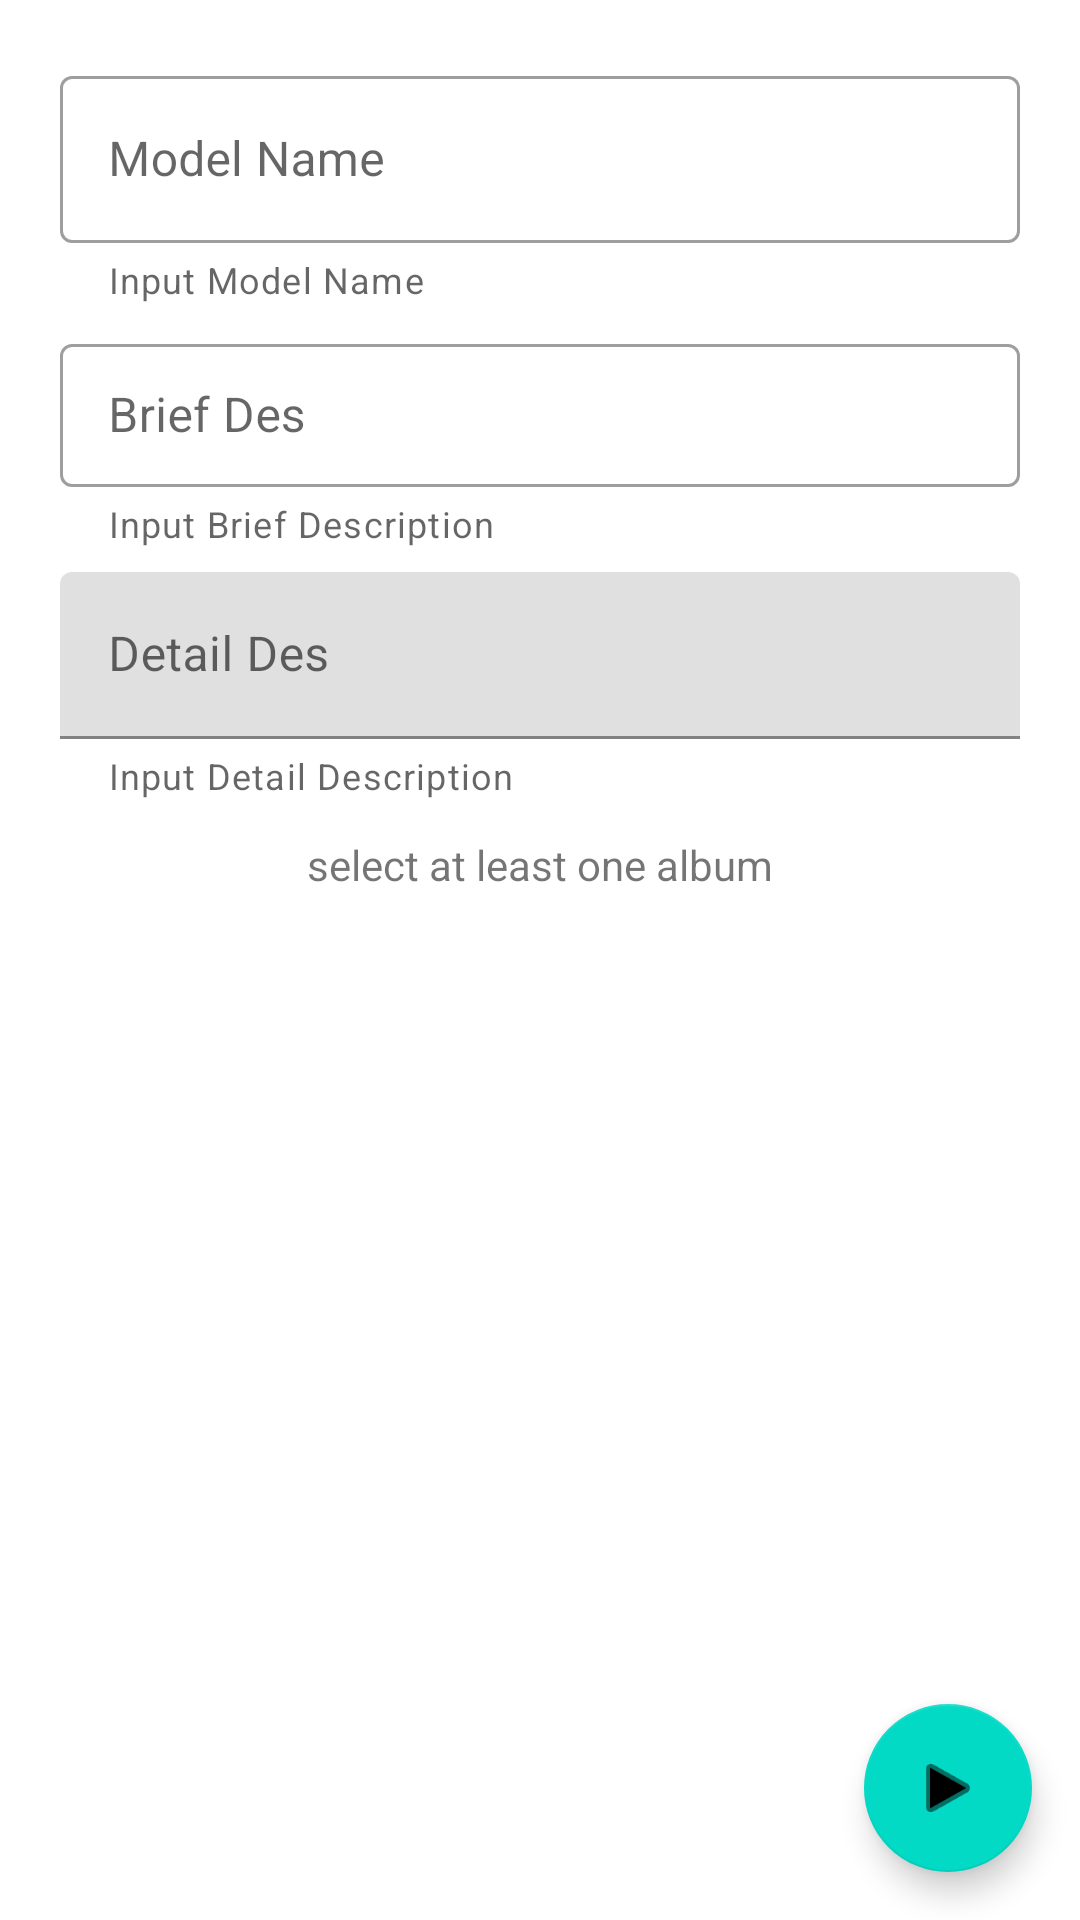

Locate icon controls on the screen. Image size 1080 × 1920, boxes as (x1, y1, x2, y2).
play: (864, 1704, 1032, 1872)
